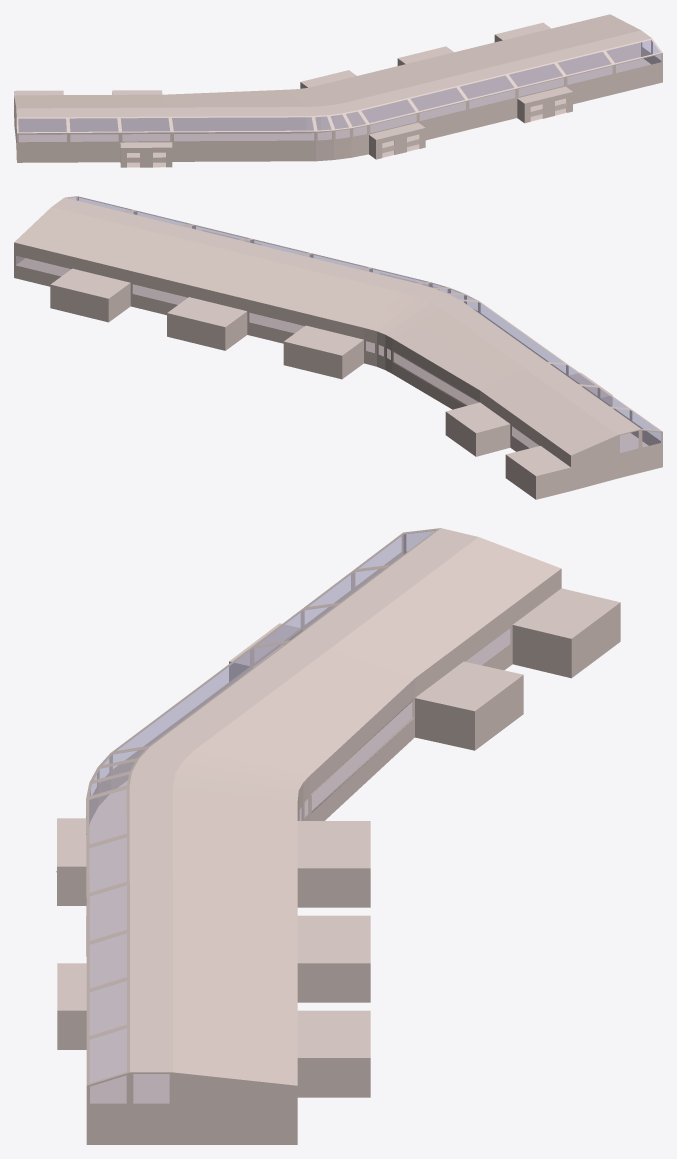
Rendered from terminal.glb.
3 views of the same model, one above another, from view 1: azimuth 30°, elevation 25°; view 2: azimuth 150°, elevation 25°; view 3: azimuth 270°, elevation 25° (orthographic). The views are drawn at different scales.
Parts seen in each view (by area): view 1: Building-col; view 2: Building-col; view 3: Building-col.
Part boxes in pixels (x1,y1,x2,y2): Building-col: [14, 14, 662, 167]; Building-col: [14, 196, 662, 499]; Building-col: [57, 528, 620, 1144].
Bounding box in the file's own units: 303 × 18.52 × 131.
